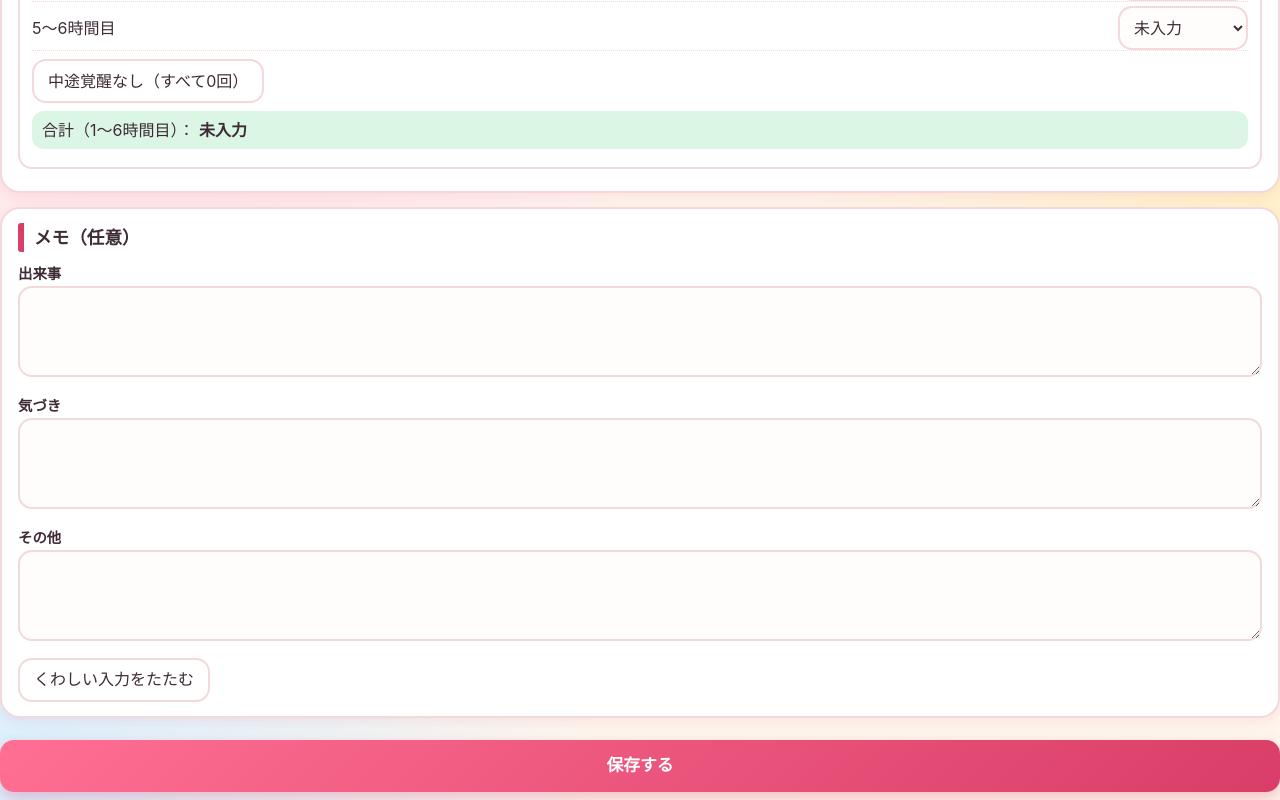
it: かんたん記録 › かんたんのまま保存しても、隠れた項目（既存メモ）を消さない
(page scrolled)
Click the button "くわしい入力をたたむ": (114, 680) [18,658,210,702]
(page scrolled)
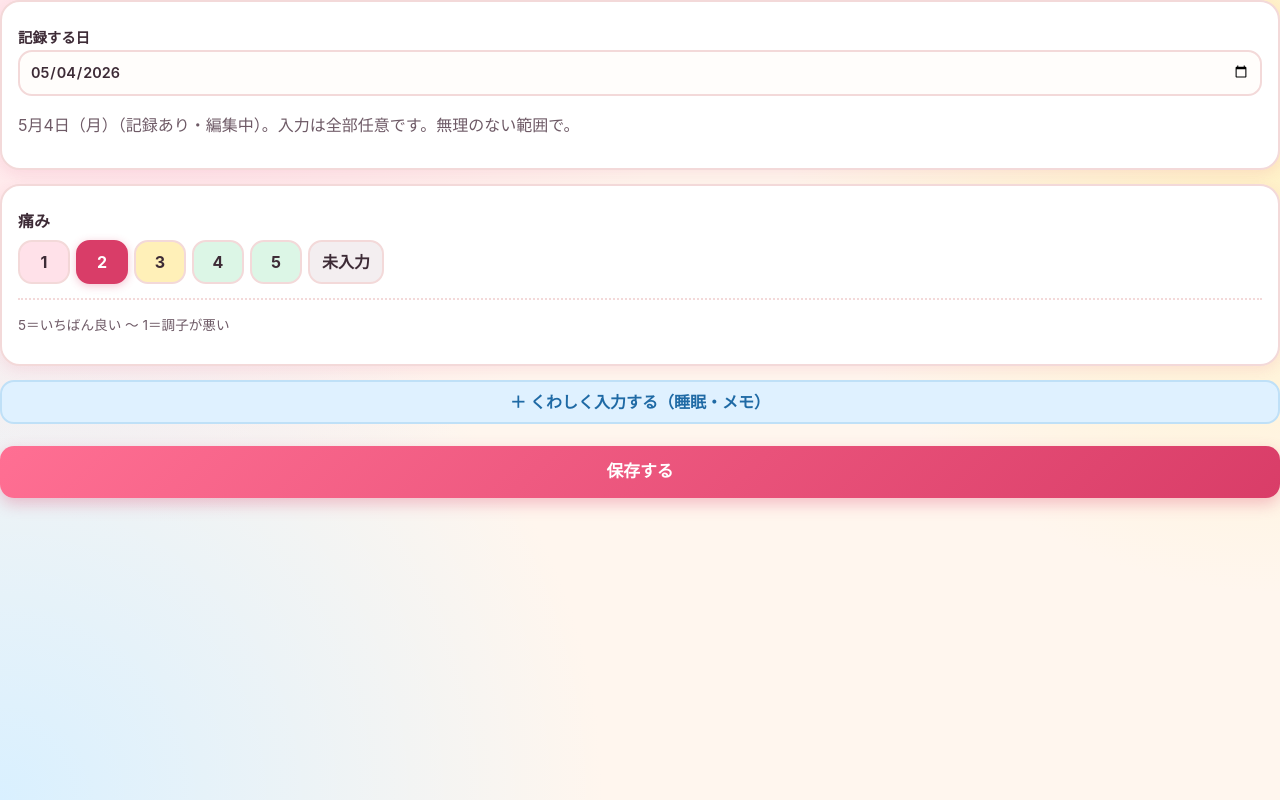
Click the button "保存する": (640, 472) [0,446,1279,498]
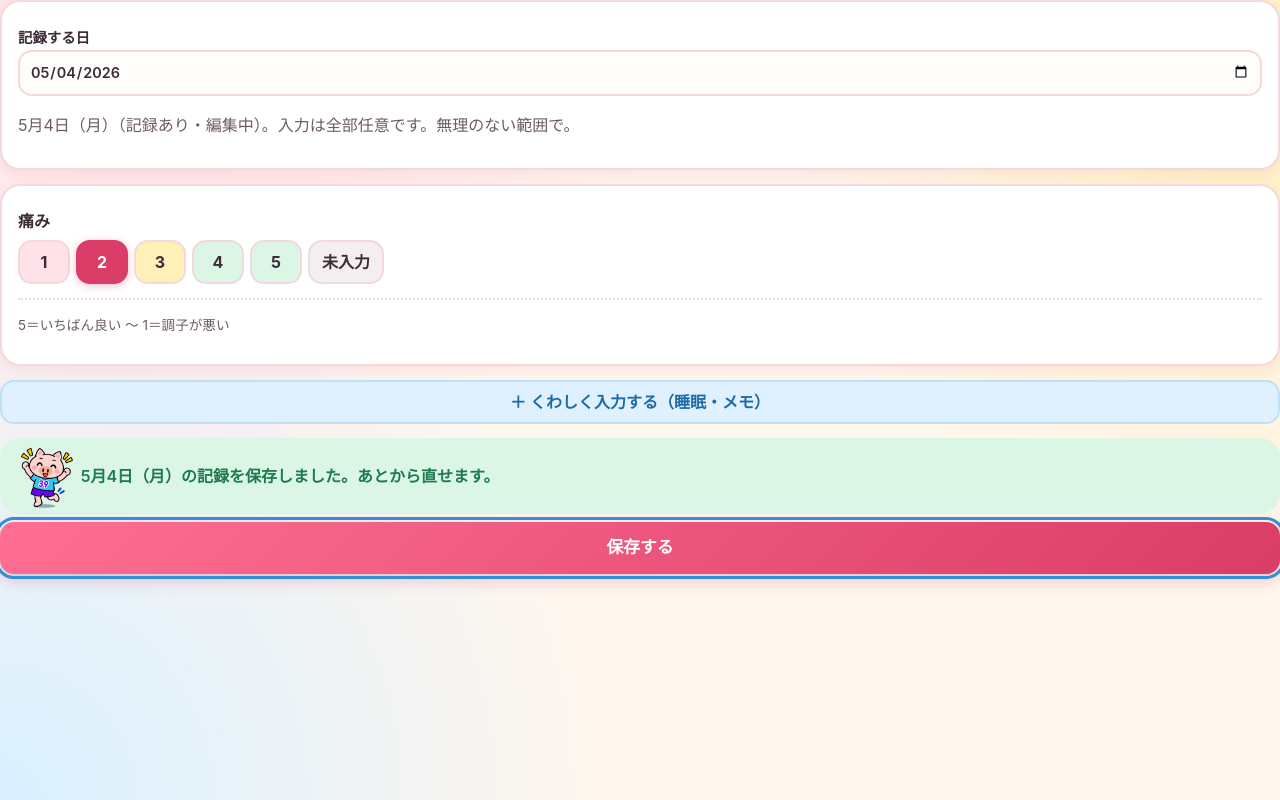
Expected: the text "5月4日（月）の記録を保存しました。あとから直せます。" is shown, [81,463,500,489]
